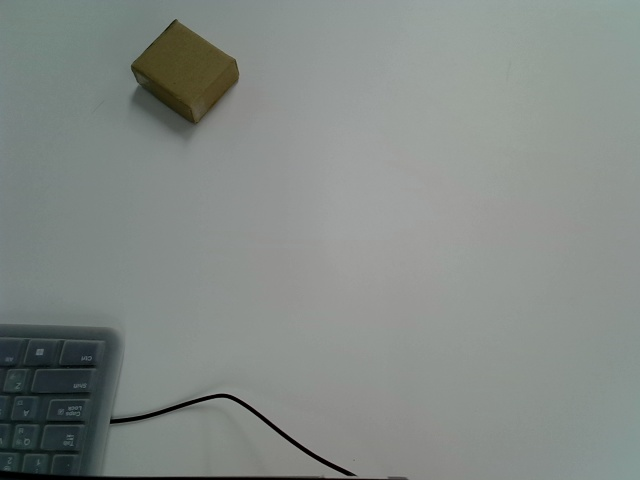normal: (130, 18, 240, 127)
